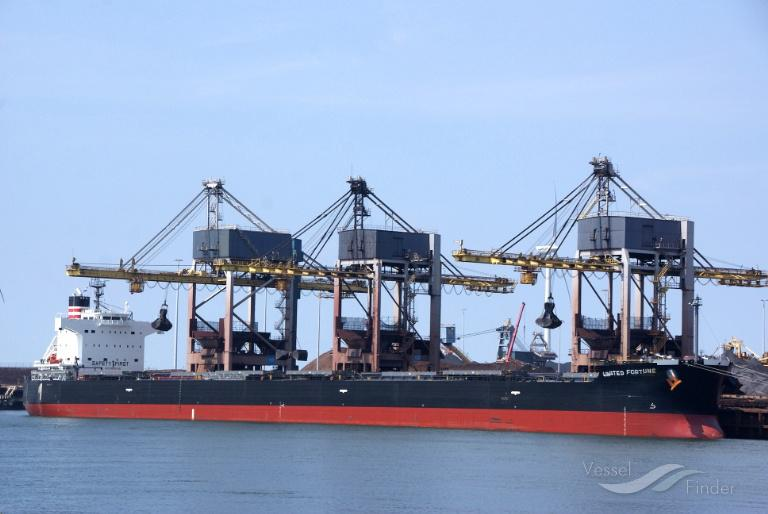OCR: (600, 363, 657, 382)
